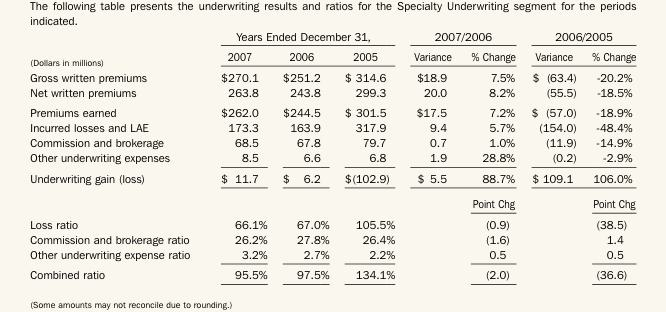table: (29, 28, 635, 281)
table column: (29, 28, 204, 281), (204, 28, 274, 281), (336, 28, 403, 281), (274, 28, 336, 281), (460, 28, 522, 281), (522, 28, 583, 281), (403, 28, 460, 281), (583, 28, 635, 281)
table column header: (29, 28, 635, 68)
table row: (29, 45, 635, 68), (29, 167, 635, 190), (29, 190, 635, 213), (29, 83, 635, 101), (29, 101, 635, 119), (29, 149, 635, 167), (29, 213, 635, 231), (29, 246, 635, 264), (29, 28, 635, 45), (29, 264, 635, 281), (29, 68, 635, 83), (29, 119, 635, 134), (29, 134, 635, 149), (29, 231, 635, 246)
table spanning cell: (29, 28, 204, 68), (204, 28, 403, 45), (403, 28, 522, 45), (522, 28, 635, 45)
